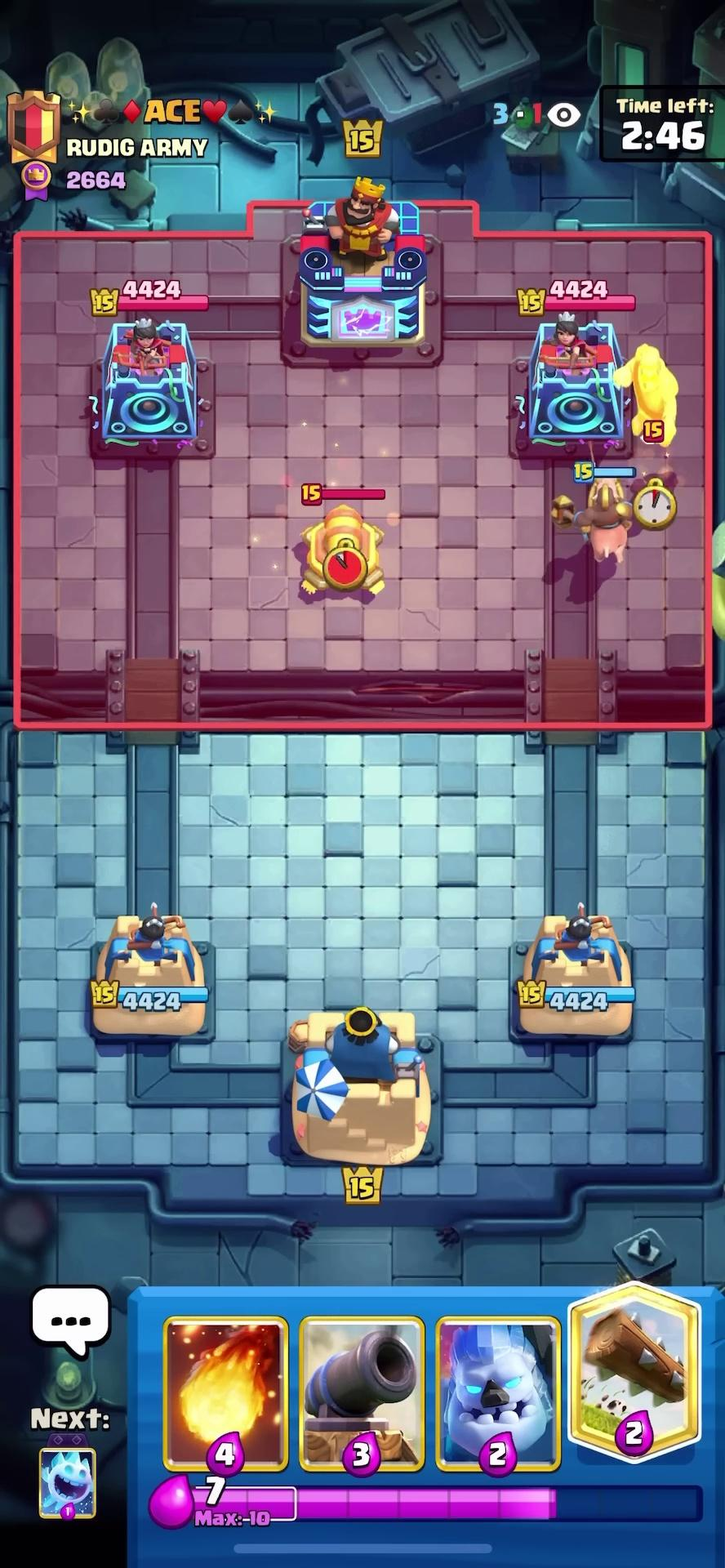hog_rider: (561, 472, 637, 574)
